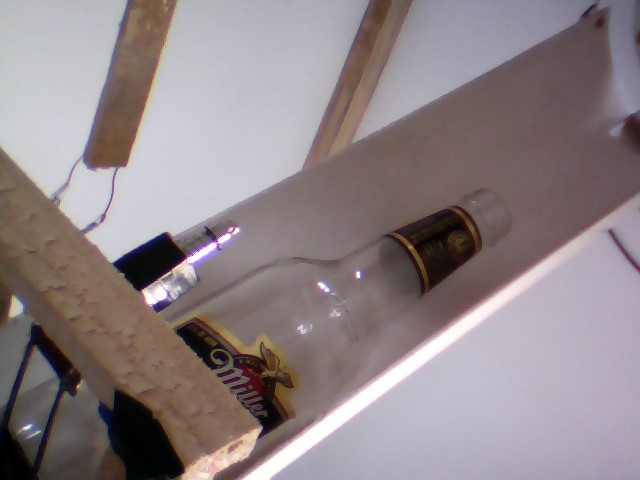vidrio: (183, 179, 531, 437)
